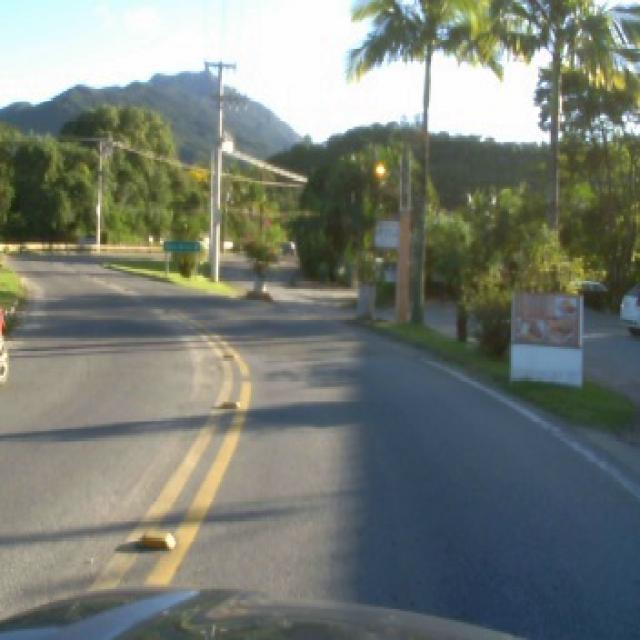Poth-hole: (130, 526, 178, 552), (218, 398, 240, 407), (220, 351, 235, 358)
